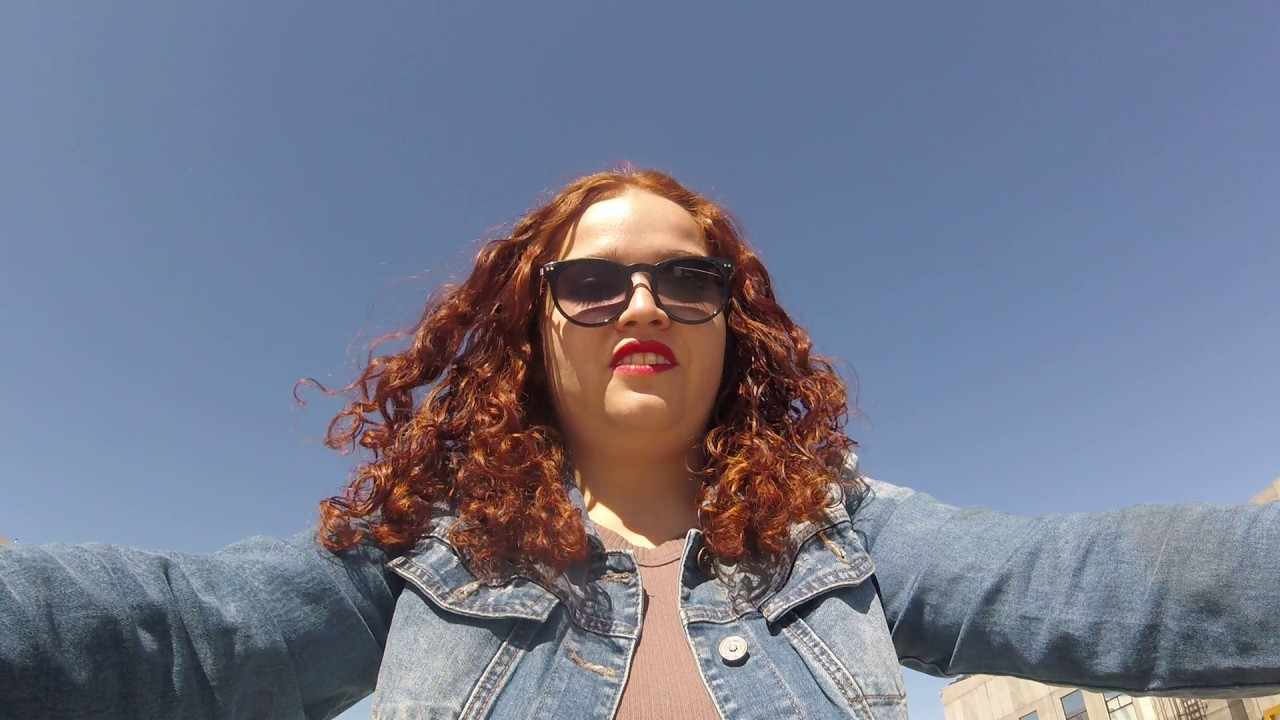Without Helmet: (492, 156, 782, 461)
